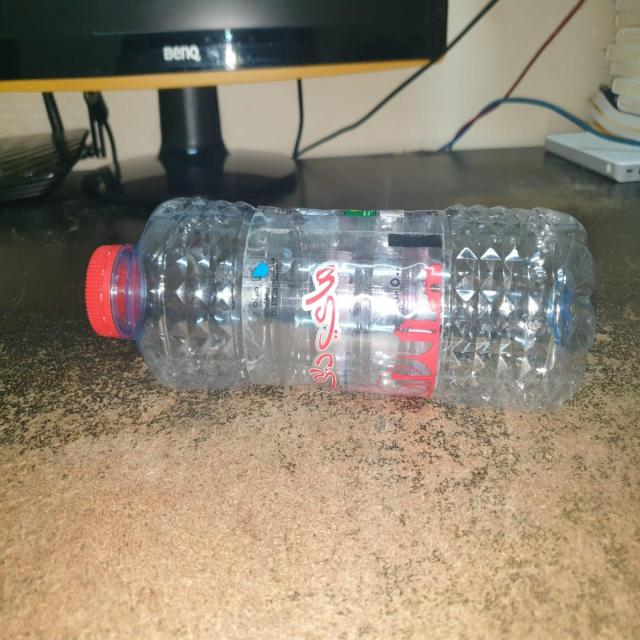bottle: (76, 180, 618, 427)
